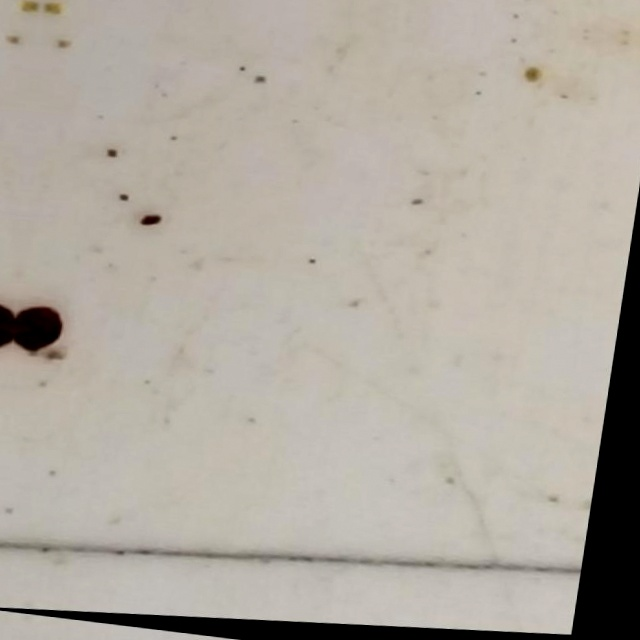varroa: (12, 302, 71, 356)
